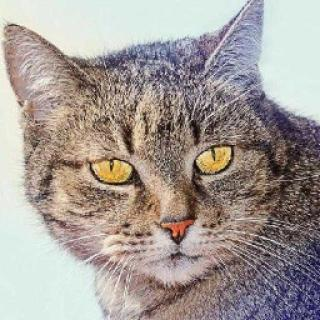cat: (11, 20, 290, 296)
nose: (143, 187, 205, 248)
